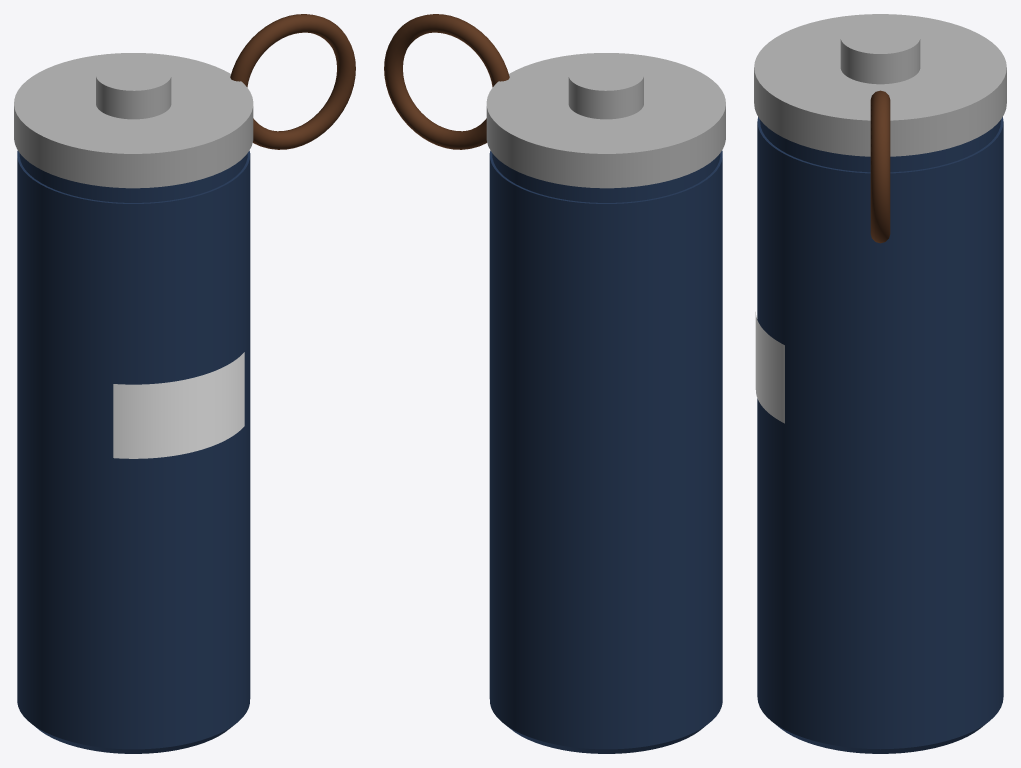
The model's file is tumbler.glb.
3 views of the same model, side by side, from view 1: azimuth 30°, elevation 25°; view 2: azimuth 150°, elevation 25°; view 3: azimuth 270°, elevation 25° (orthographic). The views are drawn at different scales.
Parts seen in each view (by area): view 1: body-500, body-350, lid, label, strap; view 2: body-350, body-500, lid, strap; view 3: body-350, body-500, lid, strap, label.
Part boxes in pixels (left/top/right/bottom): body-500: left=17, top=161, right=250, bottom=753; body-350: left=17, top=150, right=250, bottom=606; lid: left=14, top=53, right=253, bottom=188; label: left=113, top=352, right=244, bottom=458; strap: left=230, top=14, right=355, bottom=149; body-350: left=489, top=150, right=722, bottom=606; body-500: left=489, top=163, right=722, bottom=753; lid: left=486, top=53, right=725, bottom=188; strap: left=384, top=14, right=509, bottom=149; body-350: left=757, top=117, right=1003, bottom=598; body-500: left=757, top=122, right=1003, bottom=753; lid: left=754, top=14, right=1006, bottom=156; strap: left=870, top=90, right=890, bottom=243; label: left=755, top=312, right=784, bottom=423.
Bounding box in the file's own units: 0.119 × 0.229 × 0.076.
